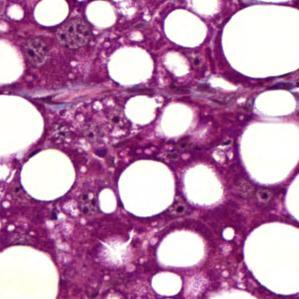steatosis: (115, 155, 178, 219), (16, 145, 79, 203), (126, 91, 157, 128), (149, 271, 183, 296)
